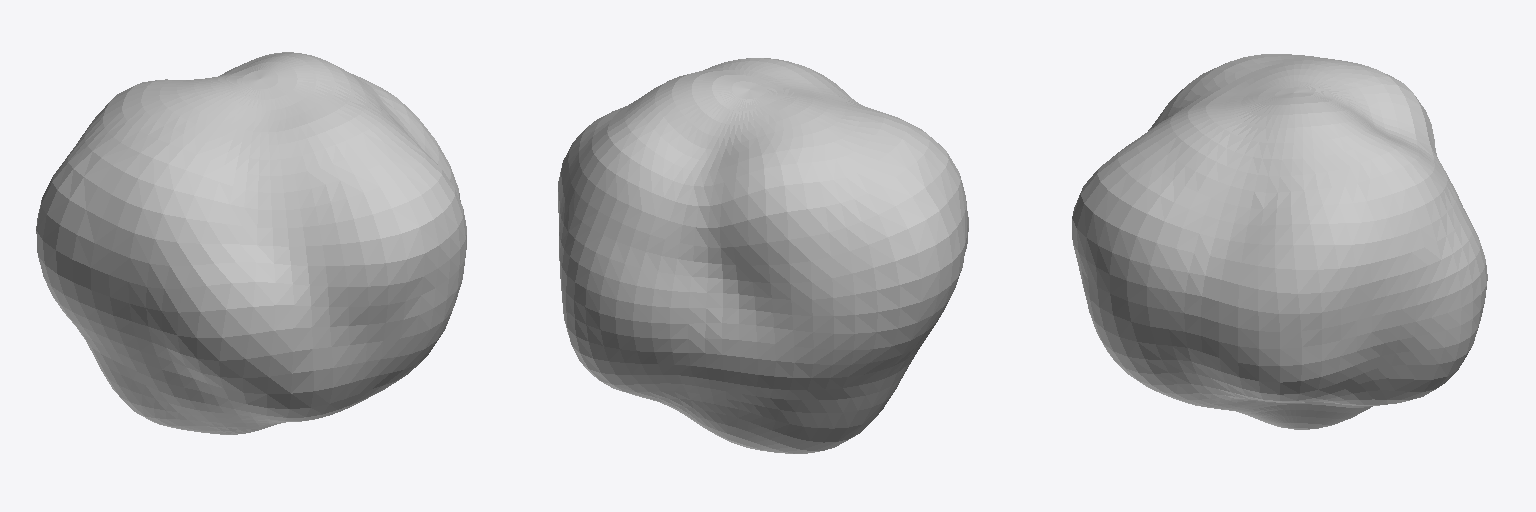
File: cloud.obj
The picture shows the model from 3 angles: view 1: azimuth 30°, elevation 25°; view 2: azimuth 150°, elevation 25°; view 3: azimuth 270°, elevation 25°; orthographic projection.
Parts seen in each view (by area): view 1: Sphere; view 2: Sphere; view 3: Sphere.
Part boxes in pixels (x1,y1,x2,y2): Sphere: (36, 52, 466, 434); Sphere: (558, 58, 968, 453); Sphere: (1072, 54, 1487, 429).
Size of the model in its own units: 3.19 by 2.74 by 2.98.